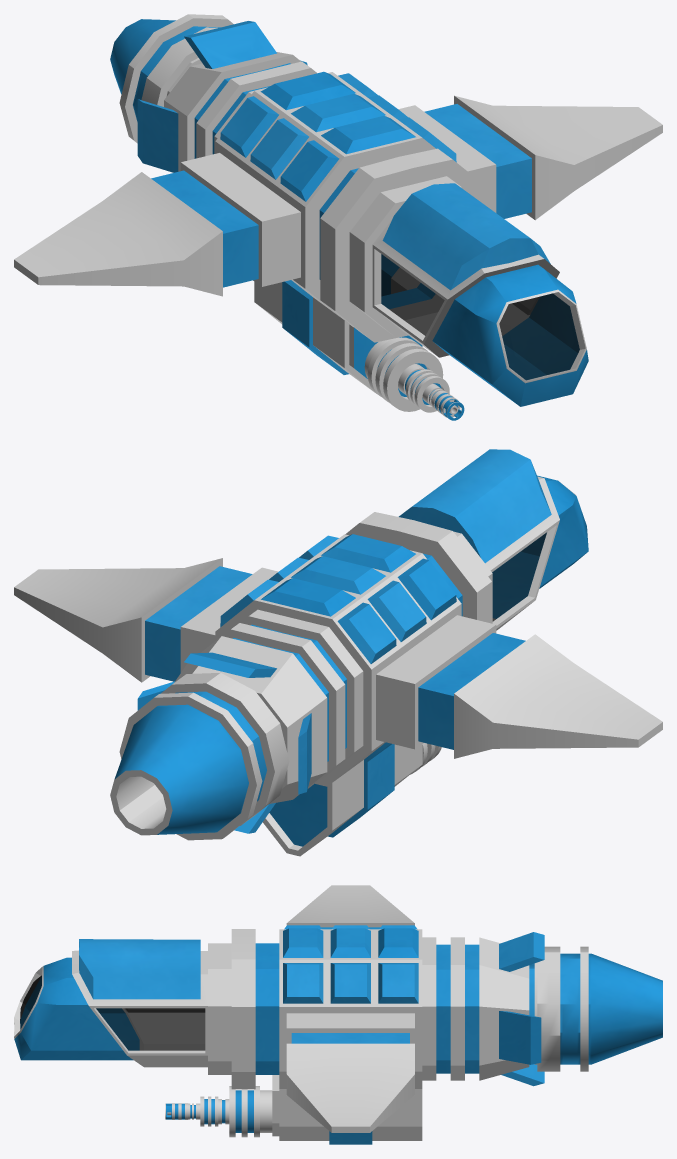
Rendered from BCA.fbx.
3 views of the same model, one above another, from view 1: azimuth 30°, elevation 25°; view 2: azimuth 150°, elevation 25°; view 3: azimuth 270°, elevation 25° (orthographic). The views are drawn at different scales.
Visible parts, largest first — view 1: BCA; view 2: BCA; view 3: BCA.
Boxes of the visible parts, x1,y1,x2,y2 form: BCA: (14, 14, 662, 420); BCA: (14, 449, 662, 856); BCA: (14, 885, 662, 1144).
Size of the model in its own units: 8 by 3.15 by 9.09.
